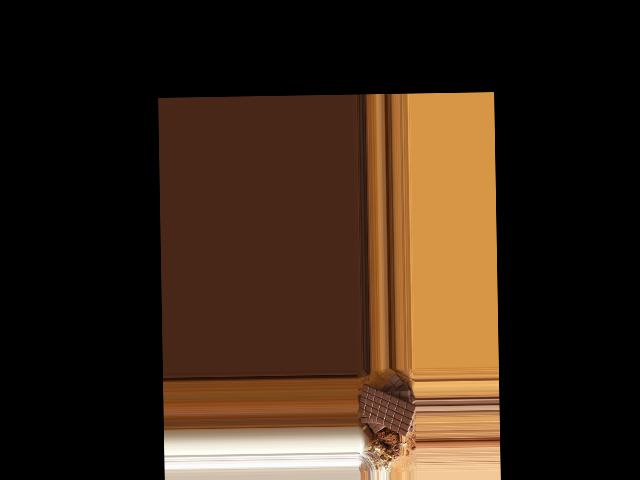chocolate: (359, 382, 416, 440)
